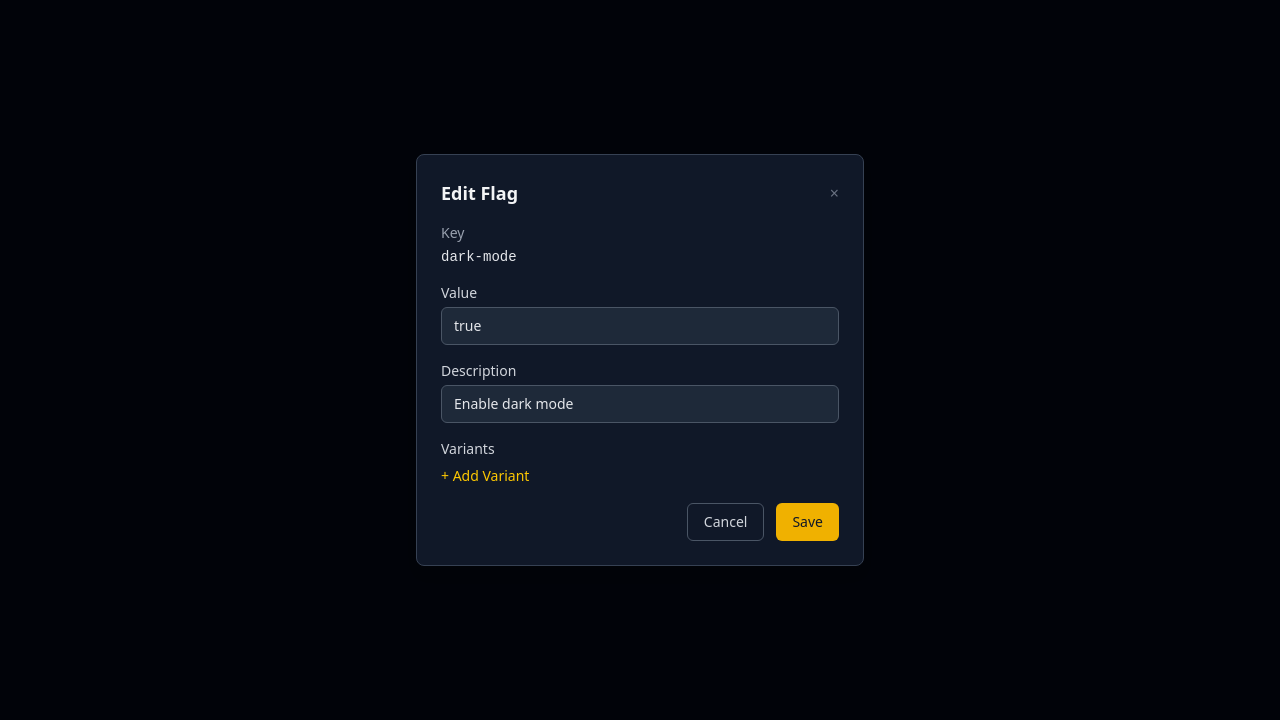
Test: EditFlagModal › shows API error on save failure
Click the button "Save". click: (808, 522)
box: [776,503,839,541]
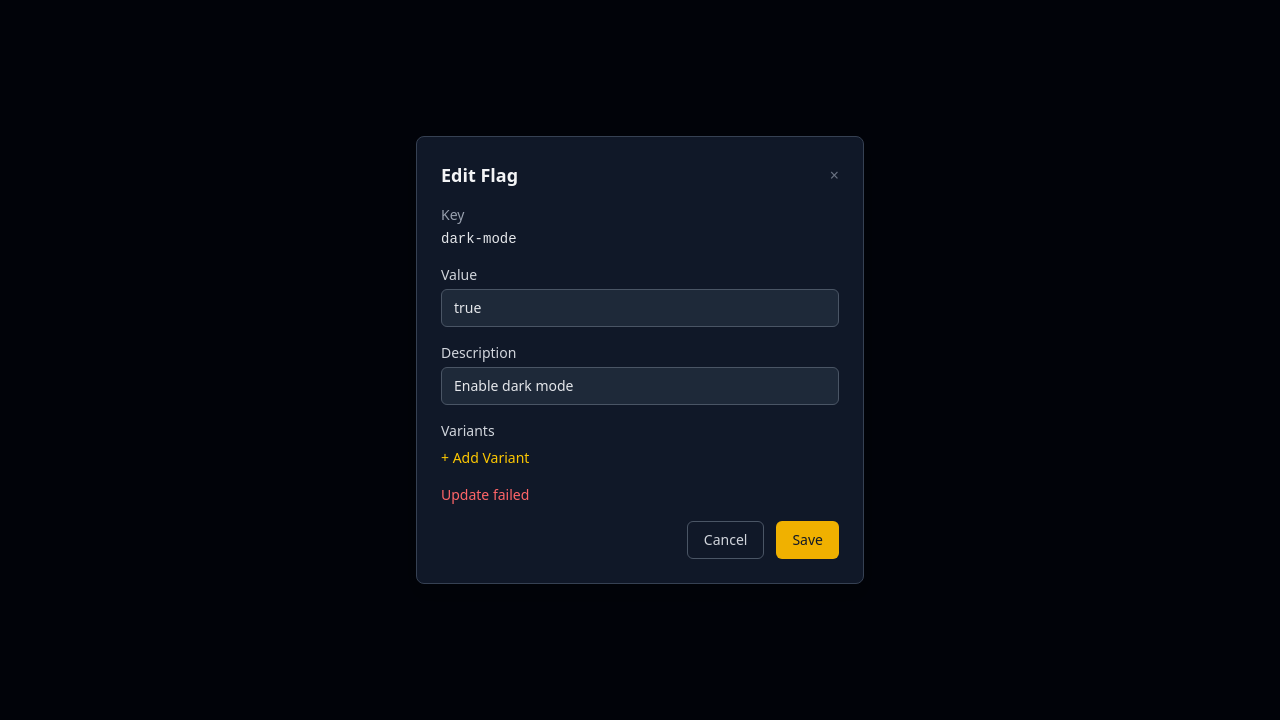
Expected: the text "Update failed" is shown, [441,485,529,504]
